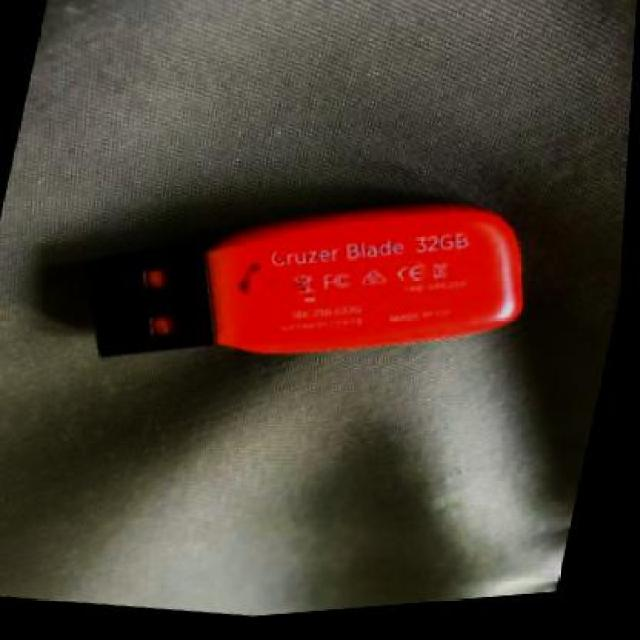Flashdisk: (49, 138, 552, 439)
